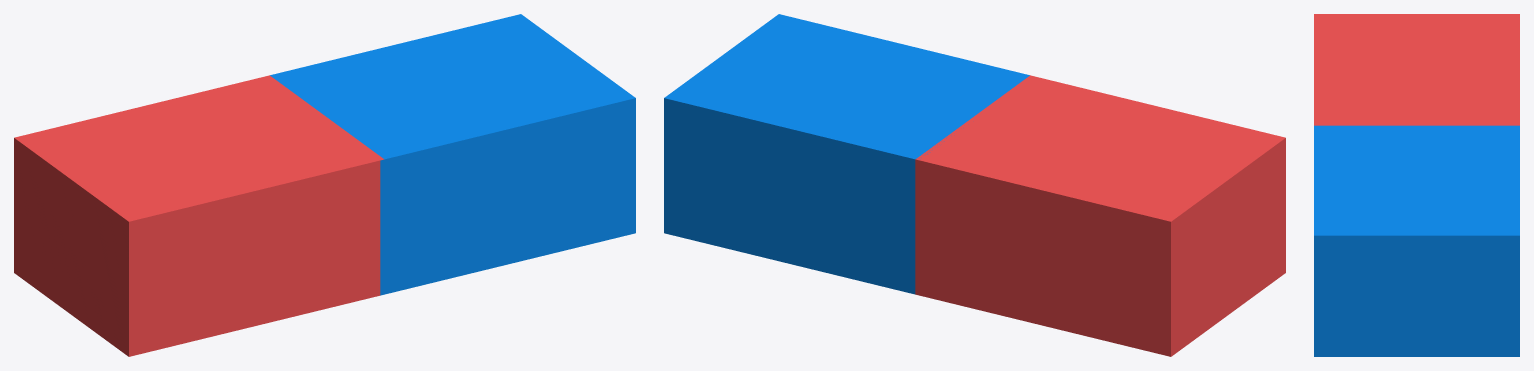
The model's file is magnet.fbx.
The picture shows the model from 3 angles, left to right: view 1: azimuth 30°, elevation 25°; view 2: azimuth 150°, elevation 25°; view 3: azimuth 270°, elevation 25°; orthographic projection. The views are drawn at different scales.
Parts seen in each view (by area): view 1: Cube.002; view 2: Cube.002; view 3: Cube.002.
Boxes of the visible parts, left/top/right/bottom form: Cube.002: left=14, top=14, right=635, bottom=356; Cube.002: left=664, top=14, right=1285, bottom=356; Cube.002: left=1314, top=14, right=1519, bottom=356.
Size of the model in its own units: 510 by 130 by 200.
